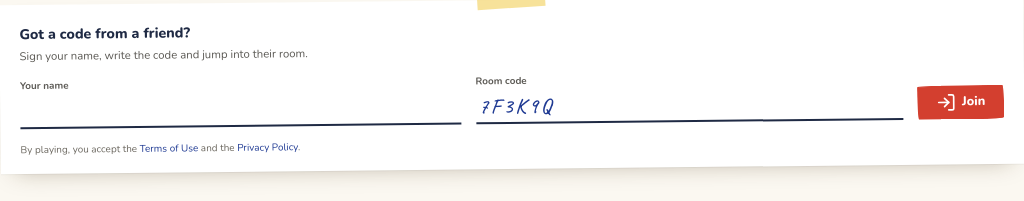
Test: pusty nick nie dołącza i pokazuje komunikat
Click the button "Join".
click(961, 102)  # box x1=917 y1=84 x2=1004 y2=119
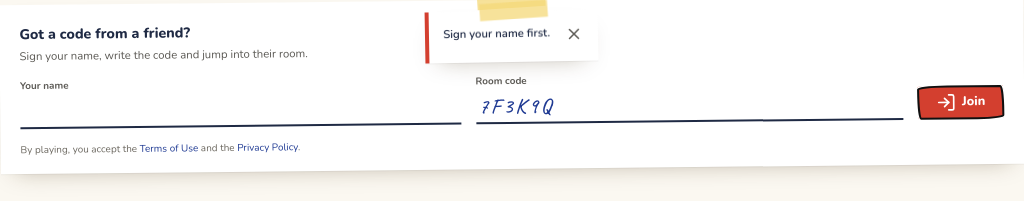
Now the message reads "Sign your name first.", box x1=443 y1=26 x2=550 y2=43
